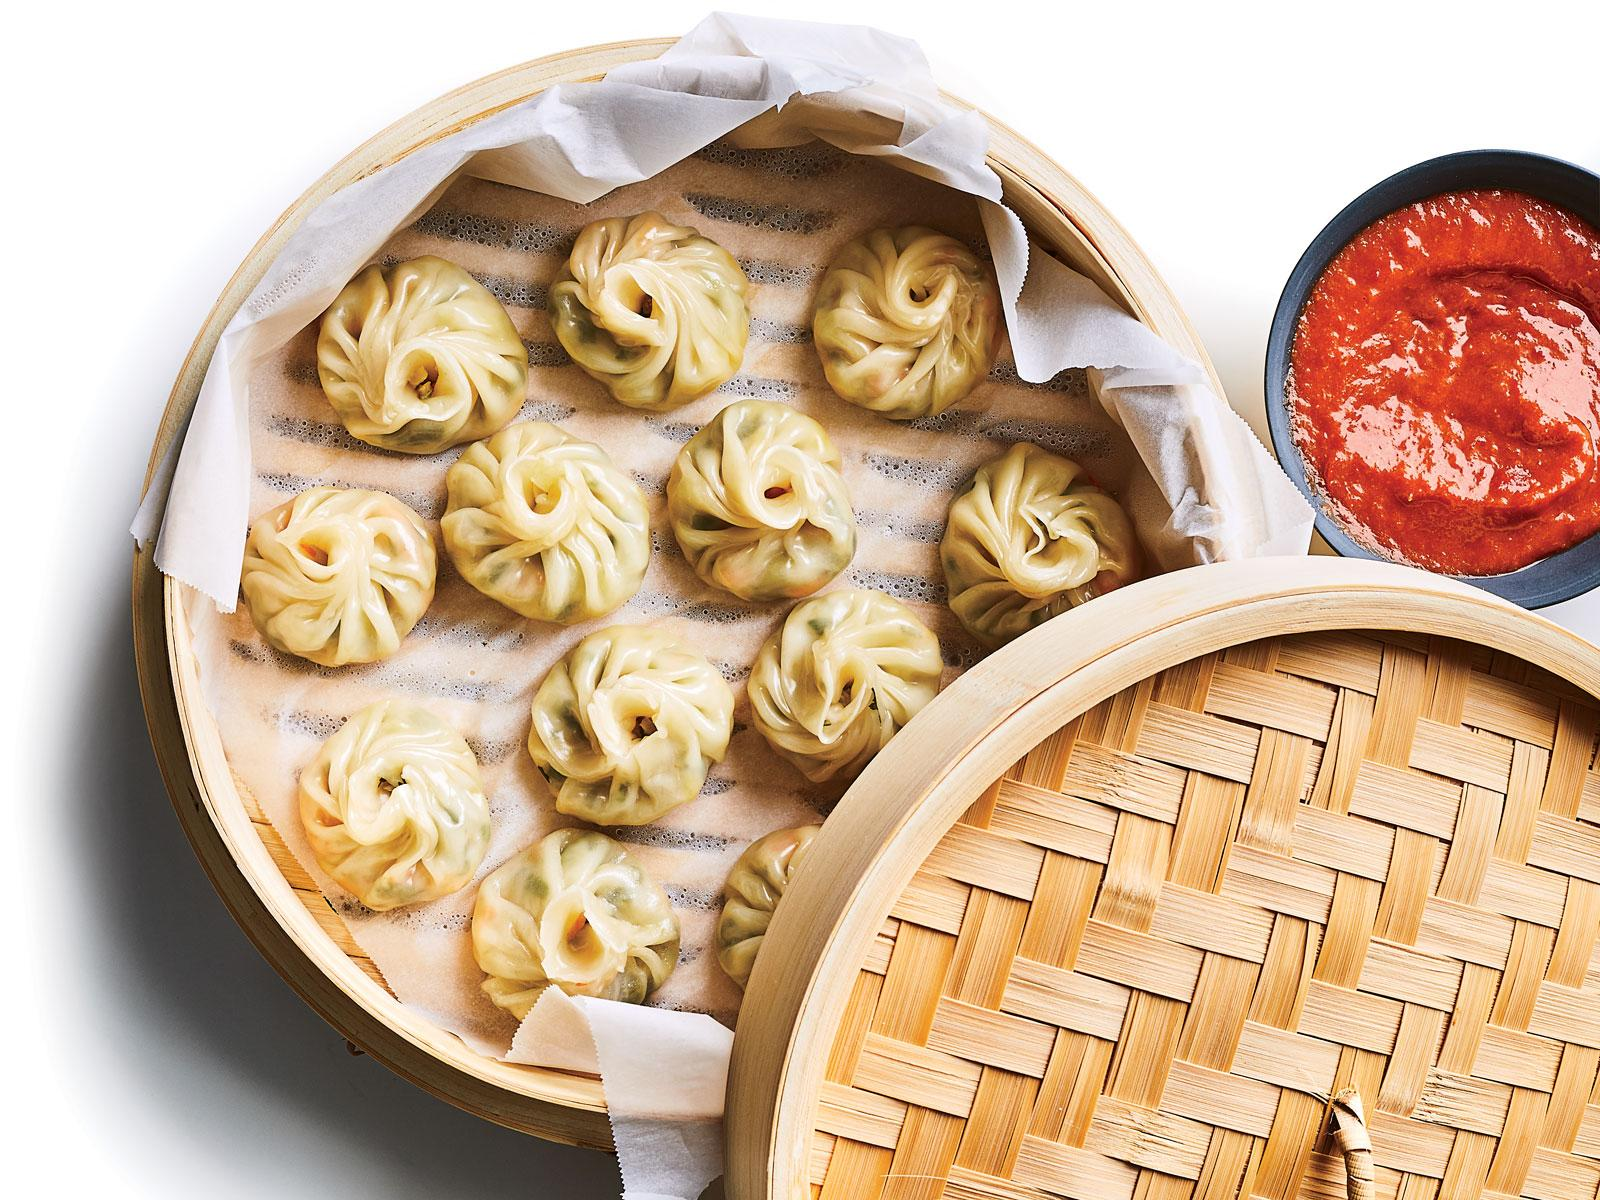momos: (441, 422, 650, 625), (316, 256, 528, 453), (941, 444, 1144, 648), (528, 625, 734, 824), (297, 700, 490, 909), (547, 213, 750, 410), (472, 828, 682, 1018), (669, 400, 857, 600), (747, 591, 944, 782), (813, 224, 1003, 418), (241, 488, 437, 666), (716, 824, 819, 986), (659, 272, 665, 279)
